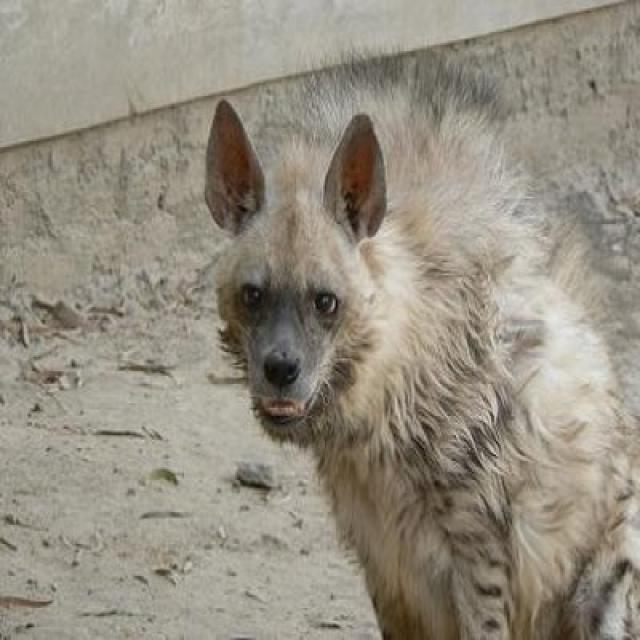hyena: (203, 74, 638, 638)
